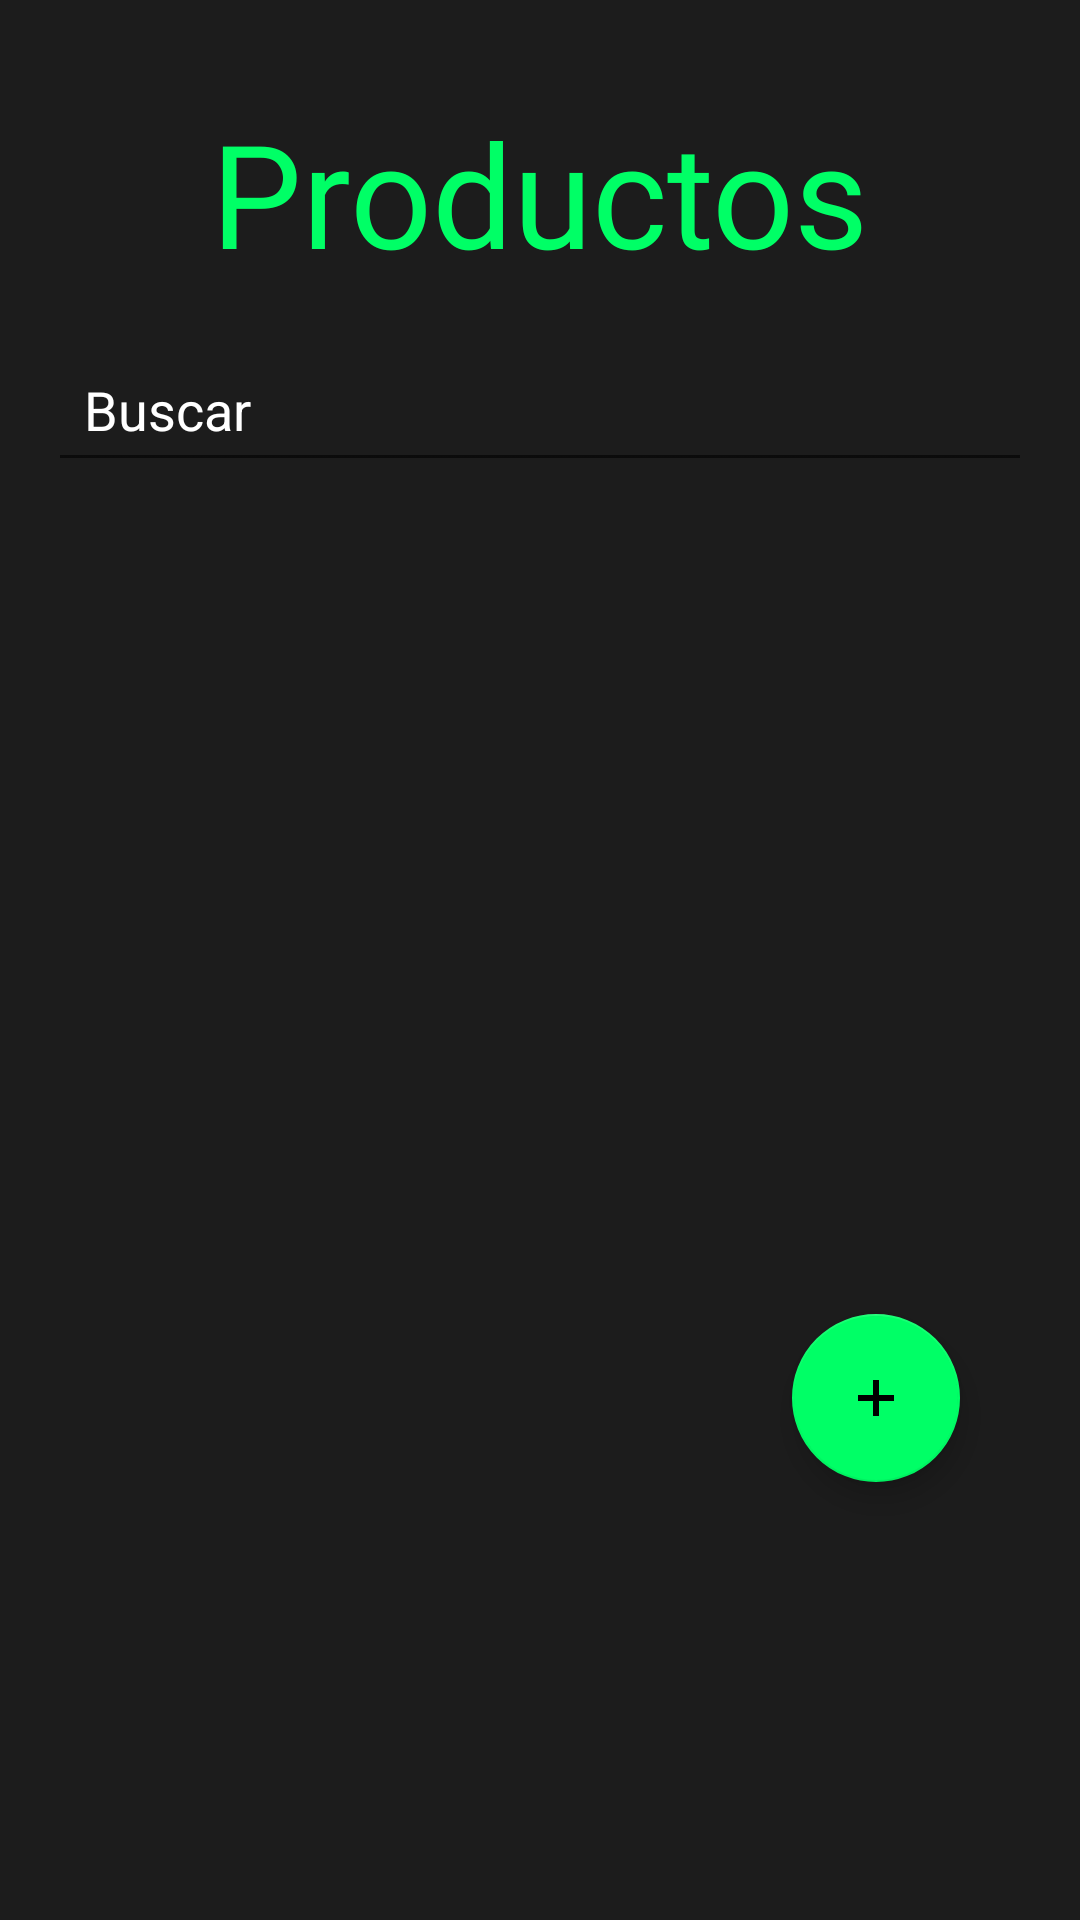

Point at icon controls on the screen. Image size 1080x1920, points as point (x, y).
add: point (876, 1398)
